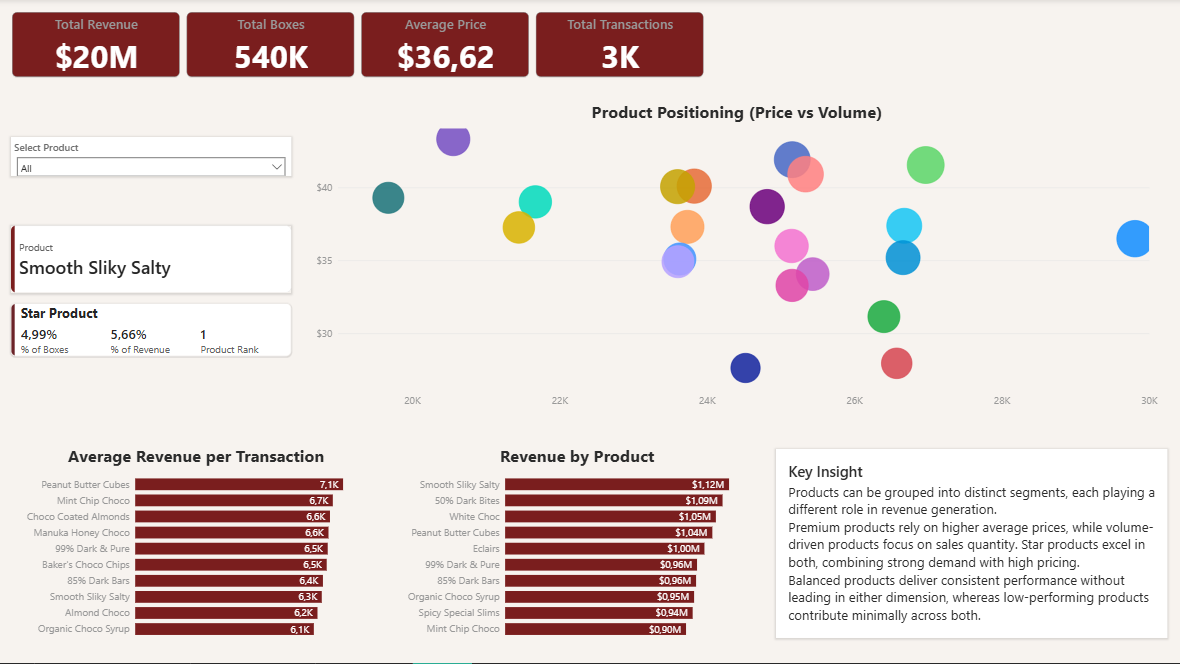

Layout of this report page (visuals, bound fields, positions):
{"tool":"powerbi","page":{"name":"Product","canvas":[1920,1080],"ordinal":2},"visuals":[{"type":"scatterChart","title":"Product Positioning (Price vs Volume)","fields":{"Series":["choco_sales (1).Product"],"Size":["Measure Table.Total Revenue"],"X":["Measure Table.Total Boxes"],"Y":["Measure Table.Average Price"]},"box":[500.2,151.3,1400.5,534.3],"z":0},{"type":"multiRowCard","title":"Performance Overview:","fields":{"Values":["Measure Table.% of Boxes","Measure Table.% of Revenue","Measure Table.Product Performance Type","Measure Table.Product Rank"]},"box":[20,496,455.5,85],"z":0,"group":"g1"},{"type":"cardVisual","fields":{"Data":["Measure Table.Total Revenue","Measure Table.Total Boxes","Measure Table.Average Price","Measure Table.Total Transactions"]},"box":[20,20,1129.6,109.8],"z":1000},{"type":"cardVisual","title":"Salesperson:","fields":{"Data":["Min(choco_sales (1).Product)"]},"box":[19.5,368.4,456.2,109.8],"z":1000,"group":"g1"},{"type":"clusteredBarChart","title":"Revenue by Product","fields":{"Category":["choco_sales (1).Product"],"Y":["Measure Table.Total Revenue"]},"box":[639.2,710,602.6,351.3],"z":3000},{"type":"textbox","title":"Key Insight","box":[1263.8,731.9,636.8,307.4],"z":4000},{"type":"clusteredBarChart","title":"Average Revenue per Transaction","fields":{"Category":["choco_sales (1).Product"],"Y":["Measure Table.Average Revenue per Transaction"]},"box":[19.5,709,602.6,351.3],"z":5000},{"type":"group","id":"g1","title":"KPIs","box":[19.5,368.4,456.2,212.3],"z":6000},{"type":"slicer","title":"Select Product","fields":{"Values":["choco_sales (1).Product"]},"box":[19.5,224.5,456.2,63.4],"z":7000}]}

Visuals, with their boxes in screenshot pixels (x1, y1, x2, y2), scaled from the page's 1920x1080 canvas onto the 1180x664 screenshot:
"Product Positioning (Price vs Volume)" scatterChart: {"x1": 307, "y1": 93, "x2": 1168, "y2": 422}
"Performance Overview:" multiRowCard: {"x1": 12, "y1": 305, "x2": 292, "y2": 357}
cardVisual - Measure Table.Total Revenue x Measure Table.Total Boxes: {"x1": 12, "y1": 12, "x2": 707, "y2": 80}
"Salesperson:" cardVisual: {"x1": 12, "y1": 226, "x2": 292, "y2": 294}
"Revenue by Product" clusteredBarChart: {"x1": 393, "y1": 437, "x2": 763, "y2": 653}
"Key Insight" textbox: {"x1": 777, "y1": 450, "x2": 1168, "y2": 639}
"Average Revenue per Transaction" clusteredBarChart: {"x1": 12, "y1": 436, "x2": 382, "y2": 652}
"KPIs" group: {"x1": 12, "y1": 226, "x2": 292, "y2": 357}
"Select Product" slicer: {"x1": 12, "y1": 138, "x2": 292, "y2": 177}
